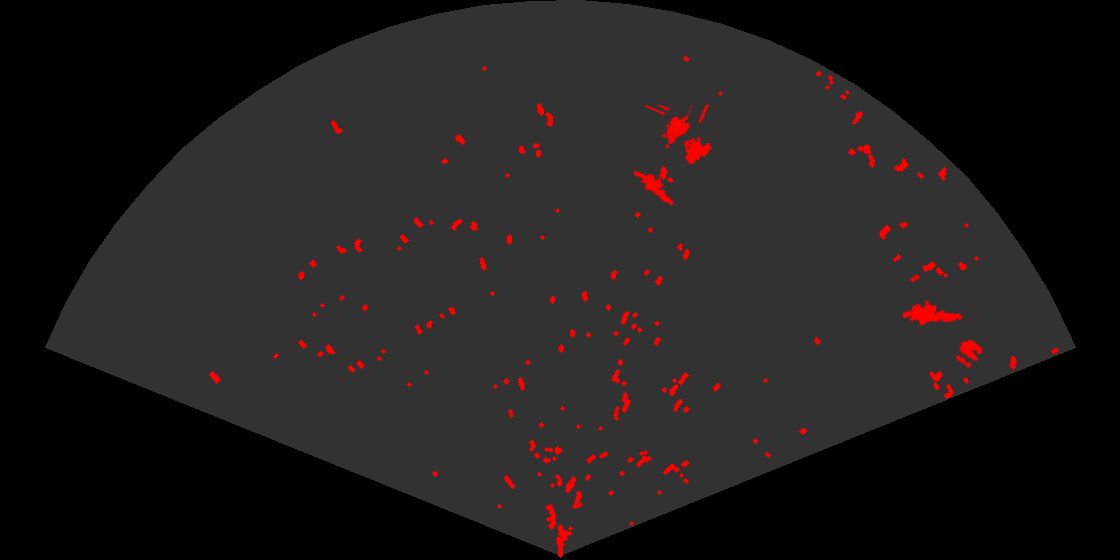ball: (954, 338, 985, 369)
cage: (645, 105, 714, 166)
frogman: (903, 298, 965, 327), (634, 169, 681, 207)
